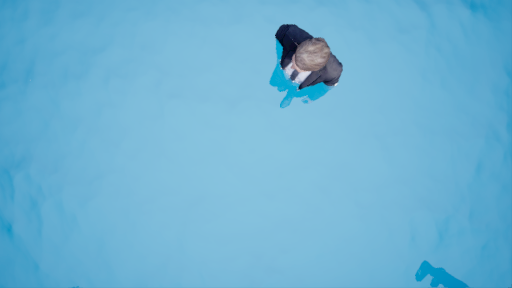person: (268, 21, 346, 120)
